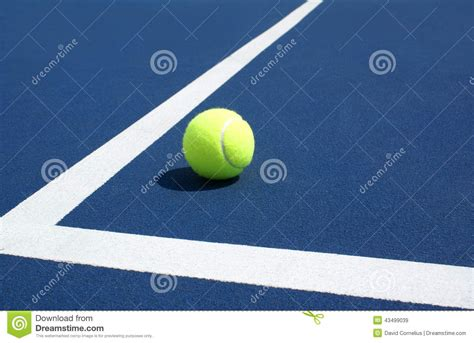tennis_ball: (182, 108, 255, 179)
